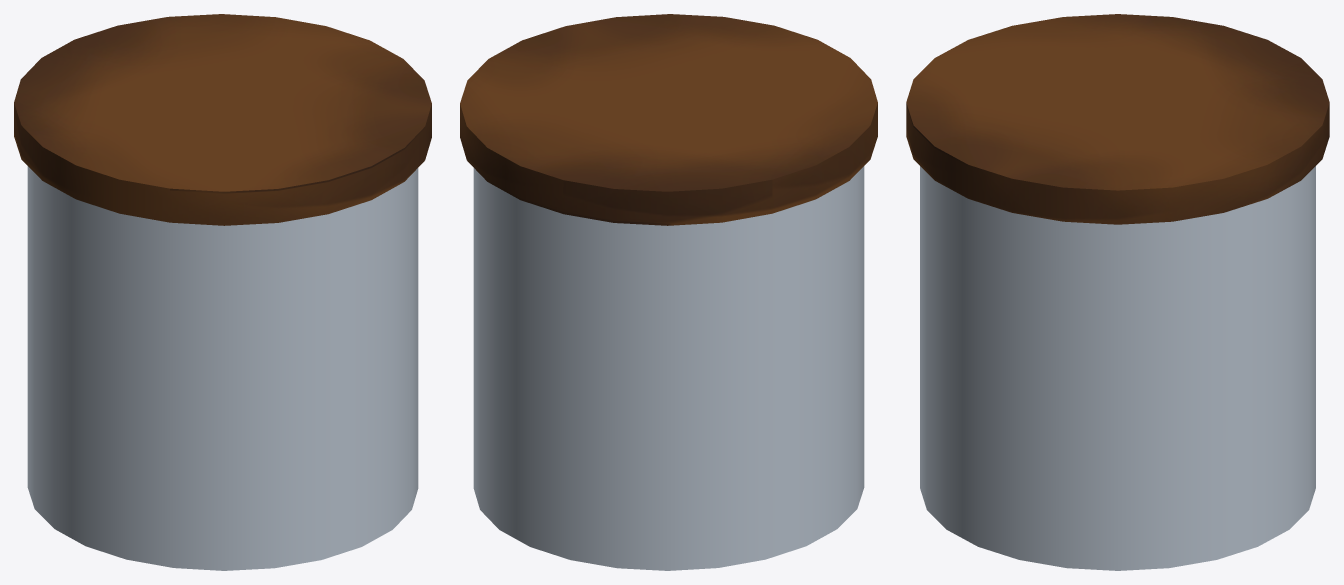
Rendered from Mushroom jar.glb.
3 views of the same model, side by side, from view 1: azimuth 30°, elevation 25°; view 2: azimuth 150°, elevation 25°; view 3: azimuth 270°, elevation 25° (orthographic).
Parts seen in each view (by area): view 1: Cylinder; view 2: Cylinder; view 3: Cylinder.
Part boxes in pixels (x1,y1,x2,y2): Cylinder: (14, 14, 431, 570); Cylinder: (460, 14, 877, 570); Cylinder: (906, 14, 1329, 570).
Size of the model in its own units: 0.0847 by 0.0864 by 0.0859.
12 materials, 10 textured.
